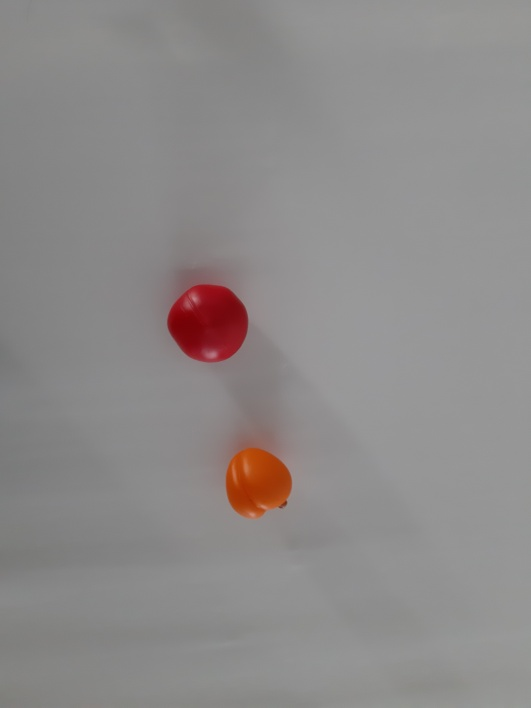apricot: (209, 442, 307, 534)
tomato: (146, 273, 273, 375)
